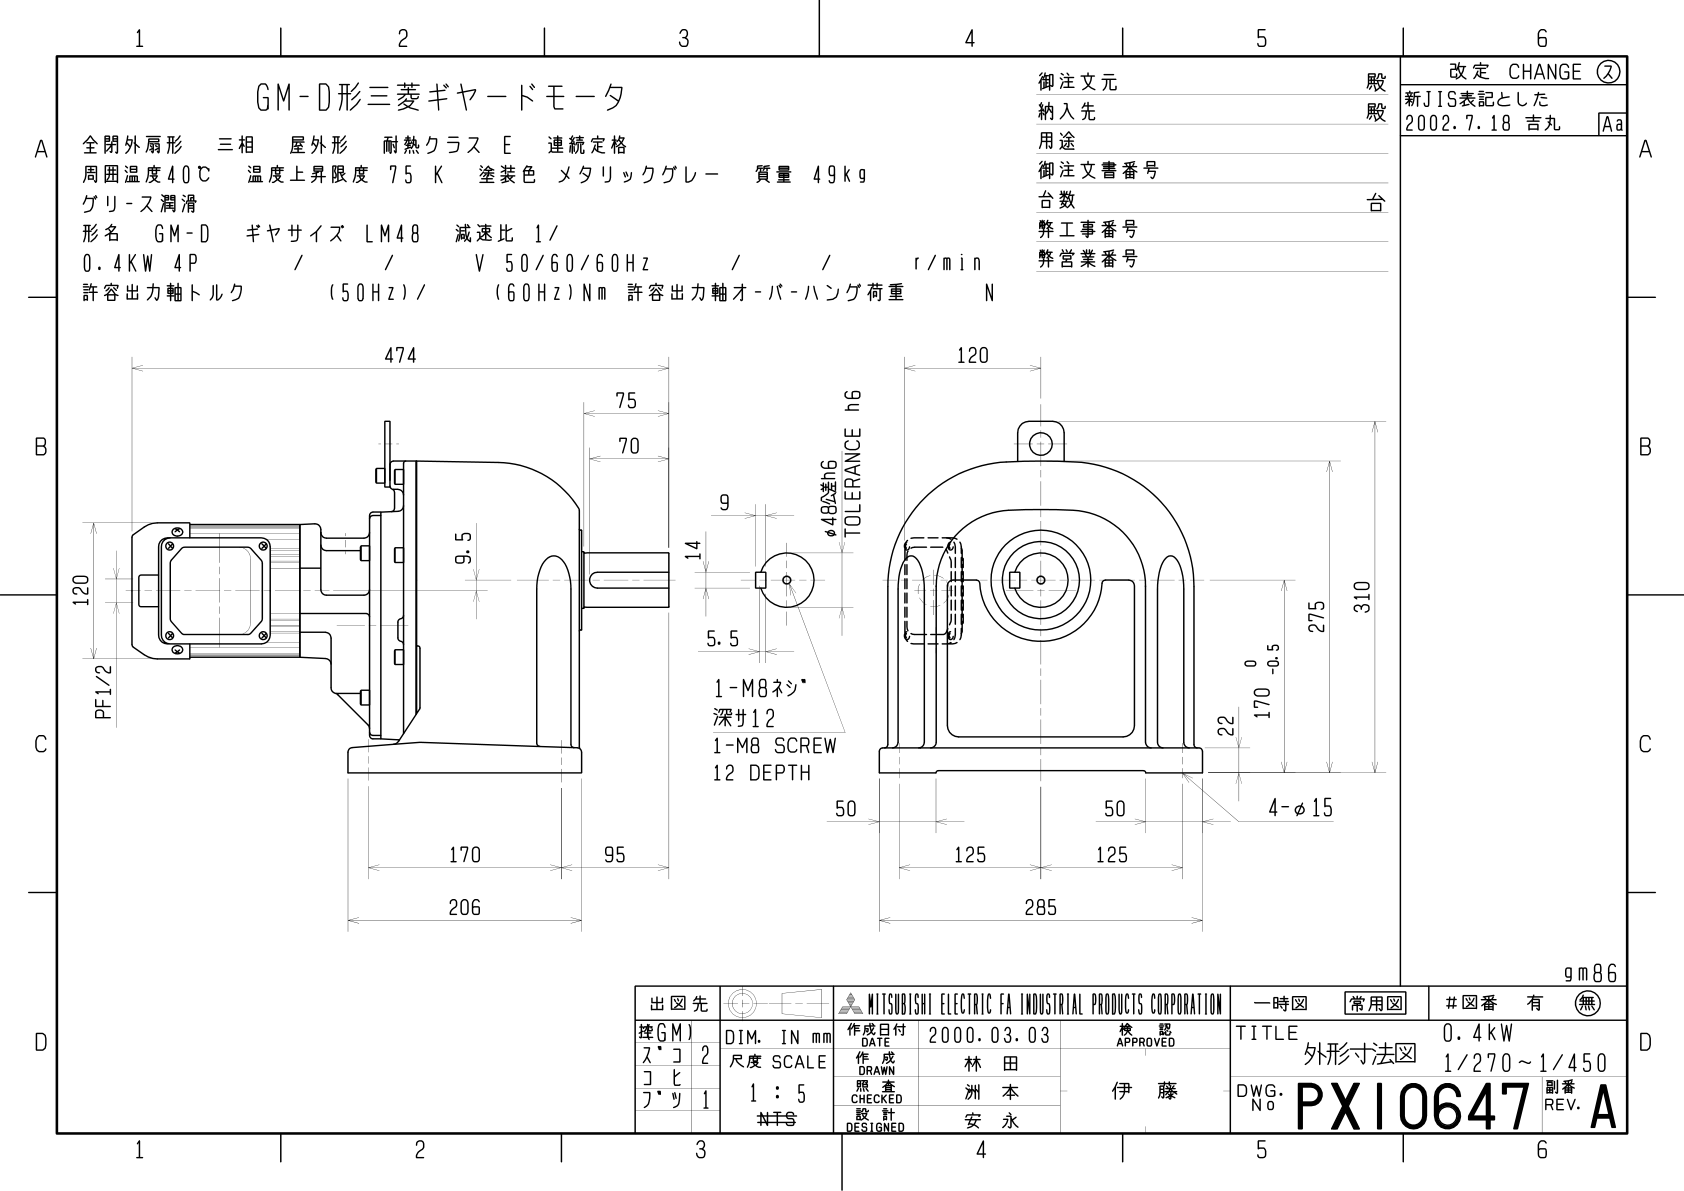GM_D_屋外＿三相_脚: (1, 1, 1669, 1178)
